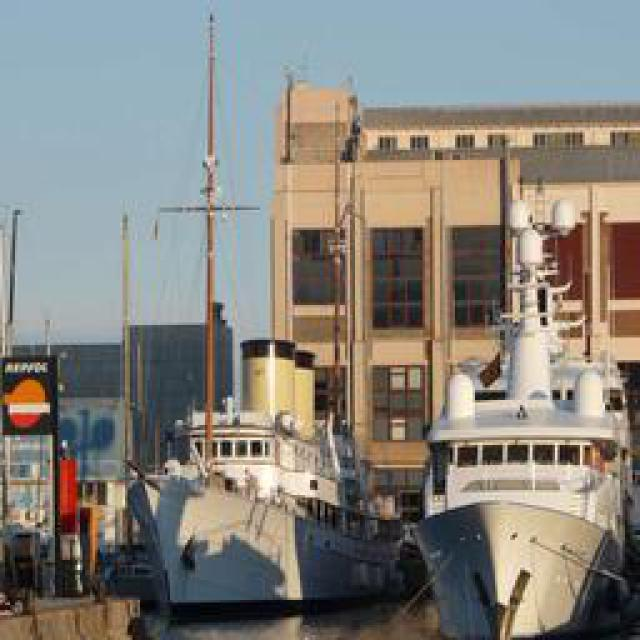Ship: (416, 314, 634, 639)
